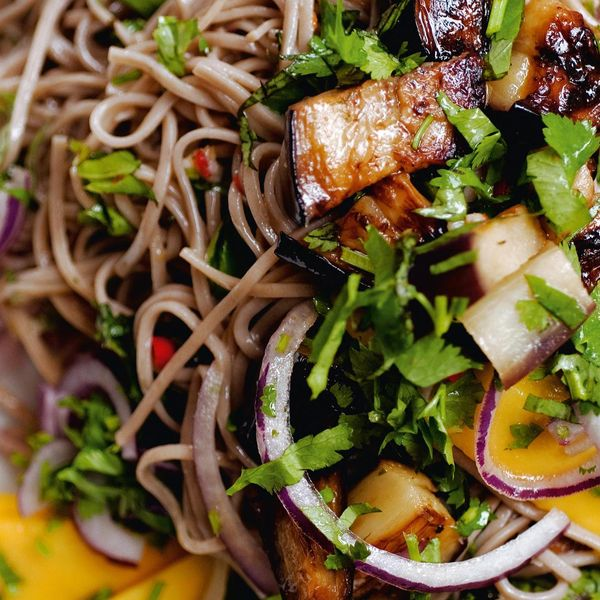Soba: (5, 1, 589, 596)
